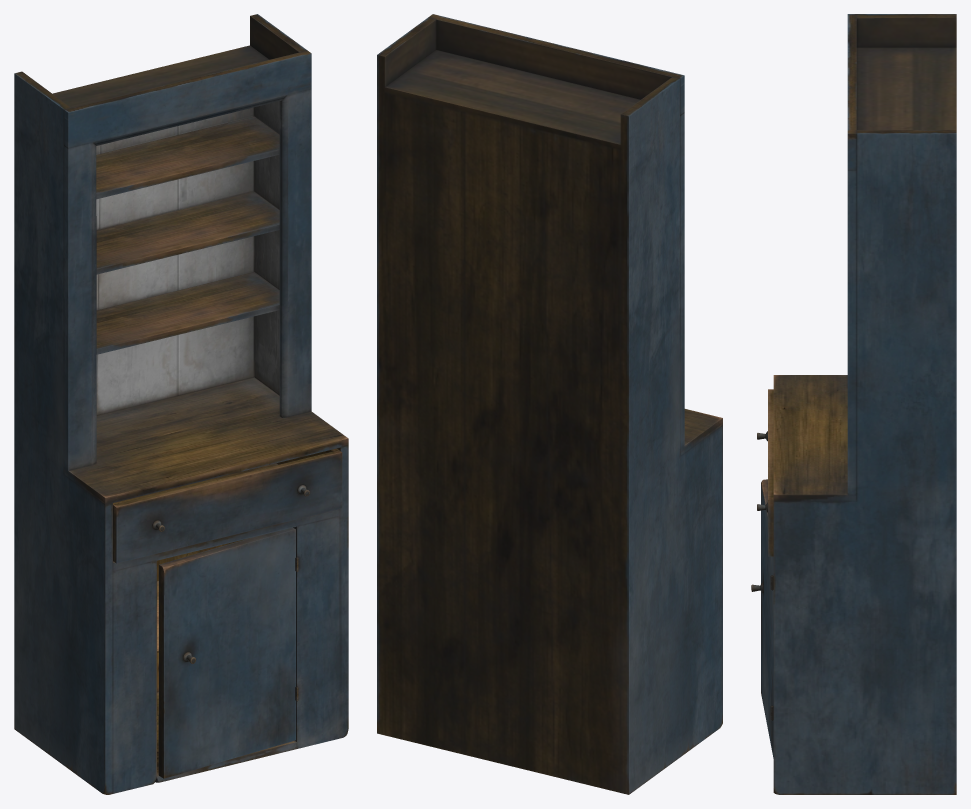
The model's file is a1-cabinet.glb.
The picture shows the model from 3 angles, left to right: view 1: azimuth 30°, elevation 25°; view 2: azimuth 150°, elevation 25°; view 3: azimuth 270°, elevation 25°; orthographic projection. The views are drawn at different scales.
Parts seen in each view (by area): view 1: painted_wooden_cabinet_02, painted_wooden_cabinet_02_door, painted_wooden_cabinet_02_drawer; view 2: painted_wooden_cabinet_02; view 3: painted_wooden_cabinet_02, painted_wooden_cabinet_02_door, painted_wooden_cabinet_02_drawer.
Boxes of the visible parts, x1,y1,x2,y2 form: painted_wooden_cabinet_02: (14,14,348,794); painted_wooden_cabinet_02_door: (158,527,295,778); painted_wooden_cabinet_02_drawer: (113,448,342,563); painted_wooden_cabinet_02: (377,14,722,794); painted_wooden_cabinet_02: (770,14,956,794); painted_wooden_cabinet_02_door: (751,479,773,758); painted_wooden_cabinet_02_drawer: (757,389,773,556).
Bounding box in the file's own units: 0.9969 × 2.57 × 0.7224.
Materials: 1 (1 with a texture image).
